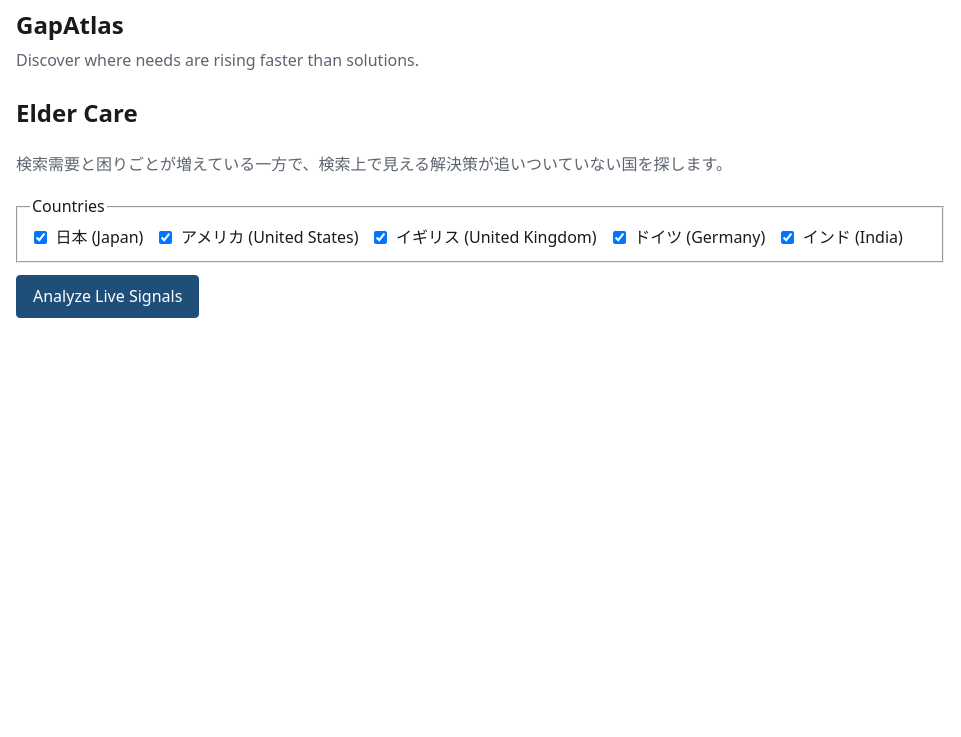
Screen 1: Discover › 処理中でも部分的なランキングと進捗を出す
The image size is (961, 737).
Click the button "Analyze Live Signals": (108, 296) top-left (16, 275), bottom-right (199, 318)
Wait 2000 ms
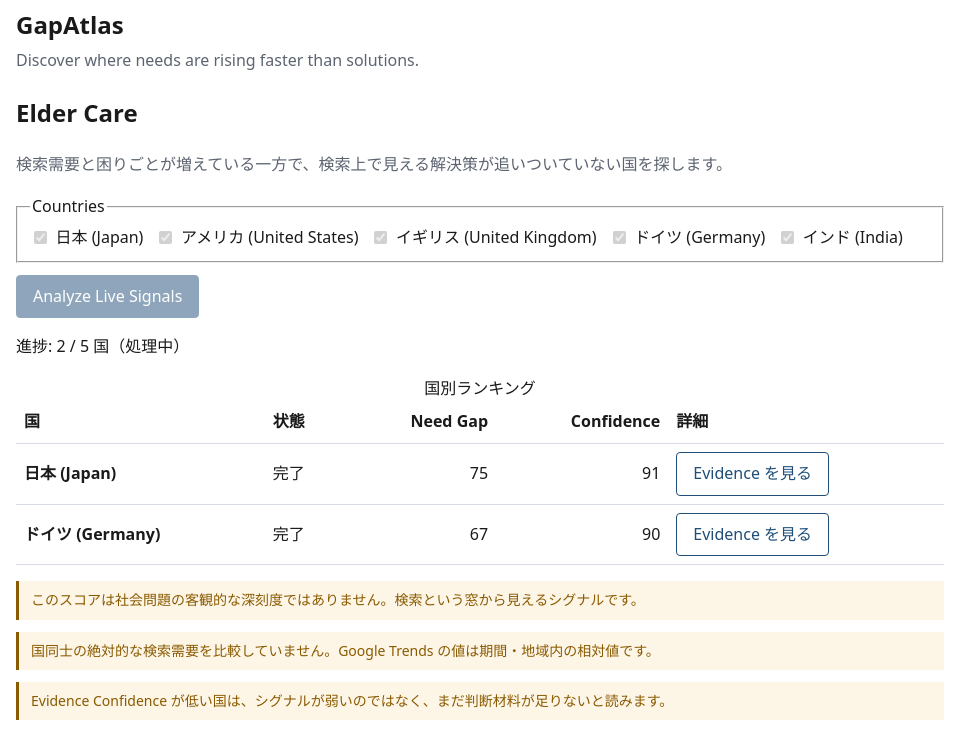
Check: the text "進捗: 2 / 5 国（処理中）" is shown, box top-left (16, 335), bottom-right (189, 357)
Check: the text "国別ランキング" is shown, box top-left (424, 377), bottom-right (536, 399)
